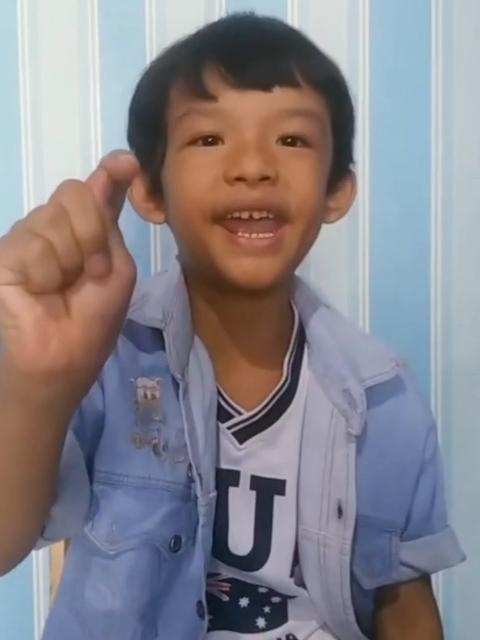T: (0, 146, 142, 396)
